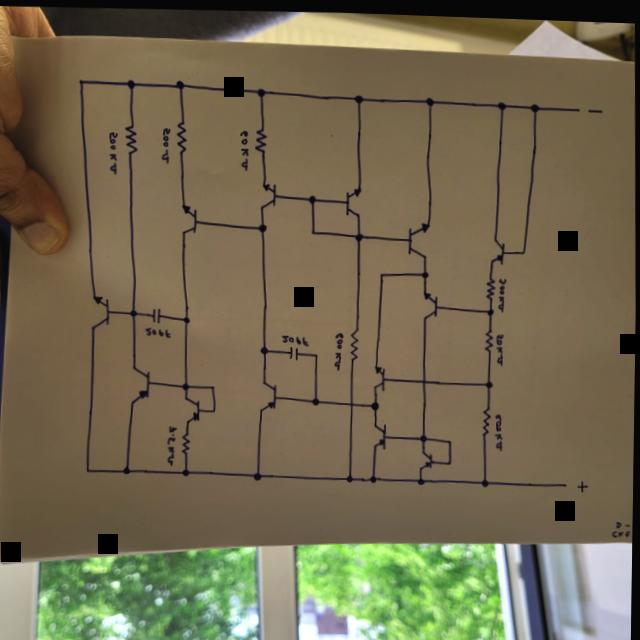capacitor: (150, 305, 162, 324), (287, 343, 301, 359)
crossover: (420, 373, 429, 384), (348, 397, 356, 407)
junction: (352, 91, 365, 103), (255, 85, 267, 96), (529, 98, 540, 110), (126, 77, 137, 89), (424, 93, 435, 104), (485, 376, 496, 387), (496, 97, 507, 108), (354, 229, 365, 240), (257, 222, 268, 232), (253, 470, 264, 480), (181, 466, 191, 477), (175, 78, 185, 89), (370, 398, 380, 408), (481, 475, 491, 485), (122, 465, 132, 475), (311, 394, 321, 404), (260, 343, 270, 353), (307, 192, 317, 202), (416, 473, 426, 483), (420, 266, 430, 276), (370, 471, 380, 481), (345, 471, 355, 481), (129, 307, 138, 317), (182, 314, 191, 324), (486, 304, 495, 313), (181, 381, 190, 390), (420, 431, 428, 440), (77, 77, 85, 86), (377, 269, 386, 277), (209, 382, 217, 390), (309, 226, 317, 234), (85, 466, 93, 474), (520, 245, 528, 253), (447, 433, 454, 442), (313, 350, 320, 357), (446, 456, 453, 463), (211, 406, 217, 413)
resistor: (173, 119, 189, 154), (122, 122, 139, 154), (347, 326, 361, 361), (252, 125, 268, 153), (480, 403, 492, 434), (180, 429, 193, 455), (484, 272, 496, 299), (484, 325, 494, 351)
terminal: (562, 476, 570, 484), (575, 103, 581, 109)
text: (106, 129, 120, 176), (165, 422, 180, 465), (238, 127, 251, 170), (159, 125, 173, 162), (280, 330, 311, 346), (333, 329, 345, 369), (493, 409, 505, 447), (496, 272, 508, 308), (494, 329, 506, 363), (145, 325, 171, 339), (577, 475, 590, 489), (586, 101, 603, 111)
transistor: (127, 362, 154, 407), (405, 215, 433, 256), (87, 290, 114, 330), (254, 376, 281, 413), (341, 181, 366, 218), (177, 199, 200, 236), (256, 176, 279, 210), (183, 392, 204, 423), (487, 233, 507, 265), (371, 418, 390, 448), (421, 287, 440, 316), (419, 446, 437, 469), (373, 363, 387, 390)
